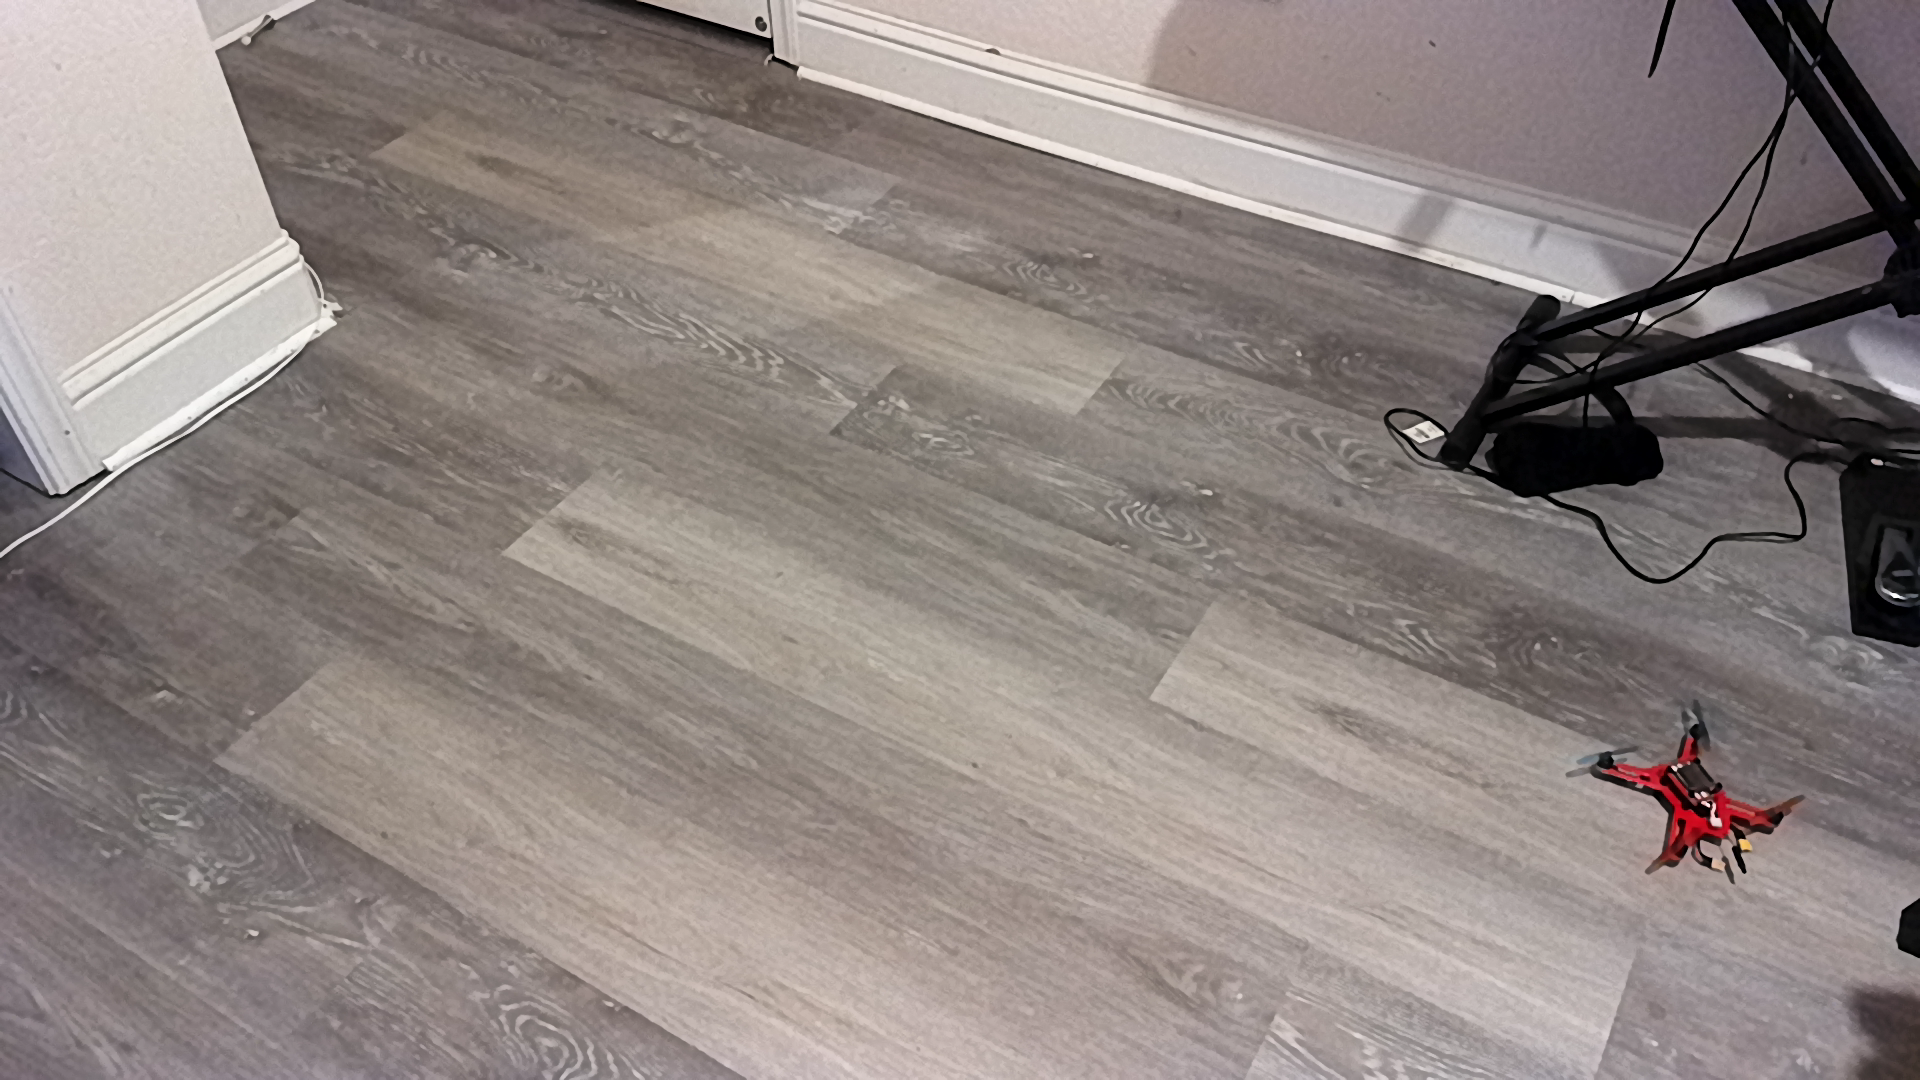drone: (1575, 698, 1818, 902)
